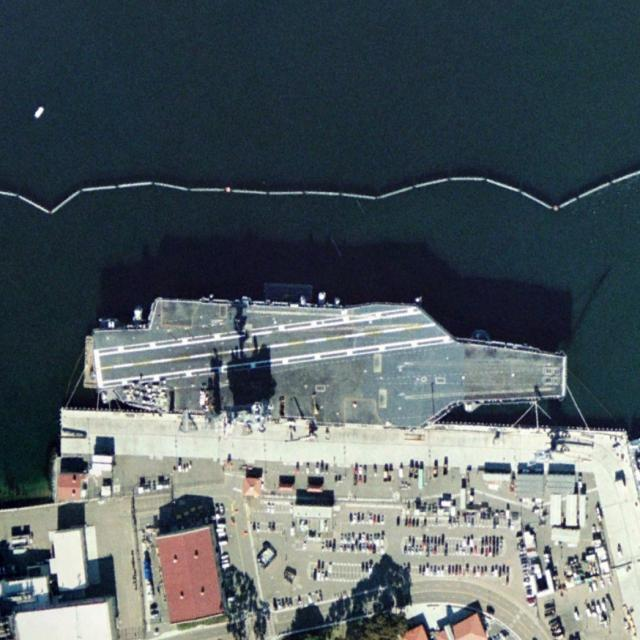Aircraft Carrier: (82, 284, 569, 434)
